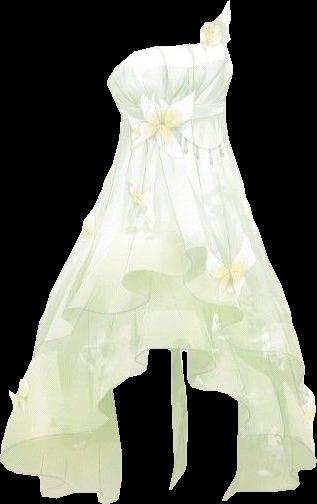Bodice: (107, 0, 232, 118)
Hemline: (0, 345, 316, 503), (31, 246, 316, 419)
Neckline: (103, 40, 228, 83)
Skirt: (0, 118, 316, 503)
Waistline: (118, 109, 227, 125)
